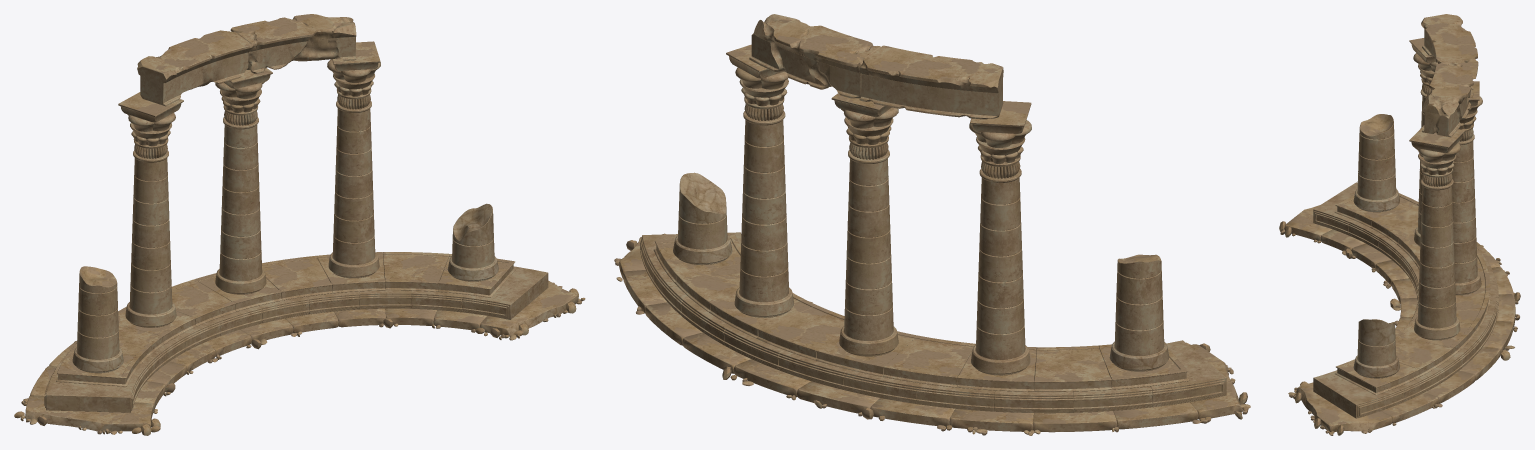
File: ruin_colonnade_curved.gltf
3 views of the same model, side by side, from view 1: azimuth 30°, elevation 25°; view 2: azimuth 150°, elevation 25°; view 3: azimuth 270°, elevation 25° (orthographic). The views are drawn at different scales.
Visible parts, largest first — view 1: egyptian_ruins_06_iray; view 2: egyptian_ruins_06_iray; view 3: egyptian_ruins_06_iray.
Part boxes in pixels (bbox=[...]): egyptian_ruins_06_iray: bbox=[14, 14, 585, 435]; egyptian_ruins_06_iray: bbox=[614, 14, 1250, 435]; egyptian_ruins_06_iray: bbox=[1279, 14, 1520, 435].
Bounding box in the file's own units: 15 × 7.39 × 6.31.
3 materials, 3 textured.
